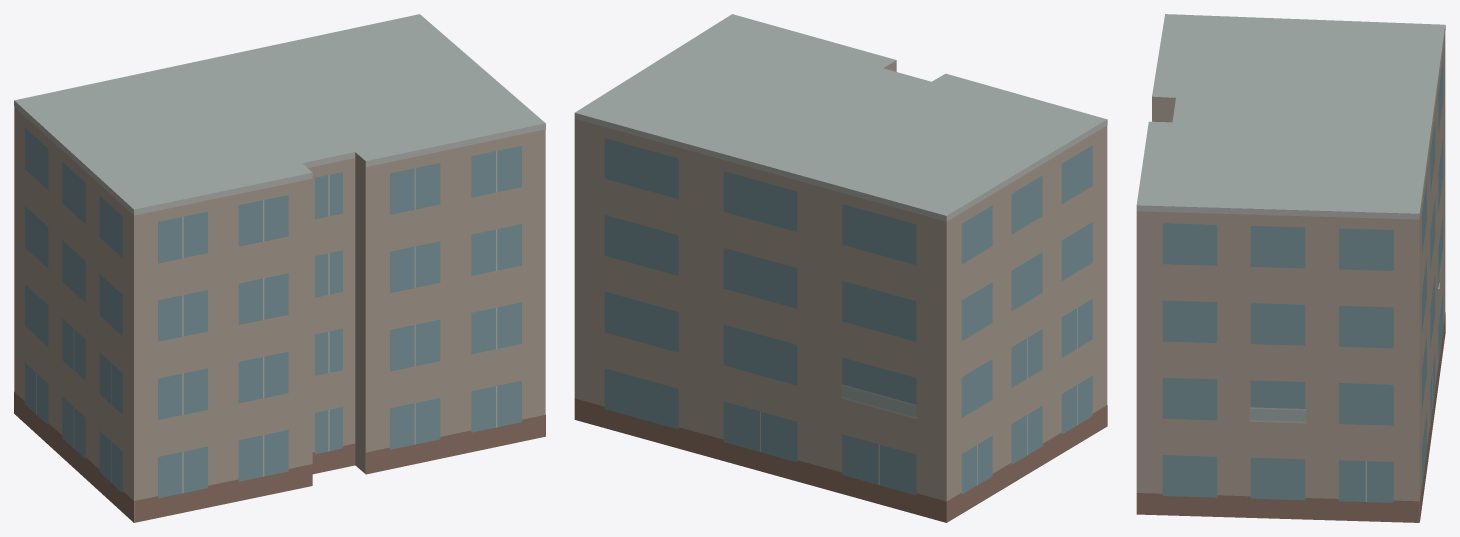
The model's file is survey-upis-32819224.glb.
3 renders of one model, left to right at view 1: azimuth 30°, elevation 25°; view 2: azimuth 150°, elevation 25°; view 3: azimuth 270°, elevation 25°, orthographic. The views are drawn at different scales.
Parts seen in each view (by area): view 1: survey-upis-32819224.tmp; view 2: survey-upis-32819224.tmp; view 3: survey-upis-32819224.tmp.
Part boxes in pixels (x1,y1,x2,y2): survey-upis-32819224.tmp: (14,14,545,522); survey-upis-32819224.tmp: (574,14,1107,522); survey-upis-32819224.tmp: (1136,14,1445,522).
Bounding box in the file's own units: 17.68 × 12.75 × 11.55.
